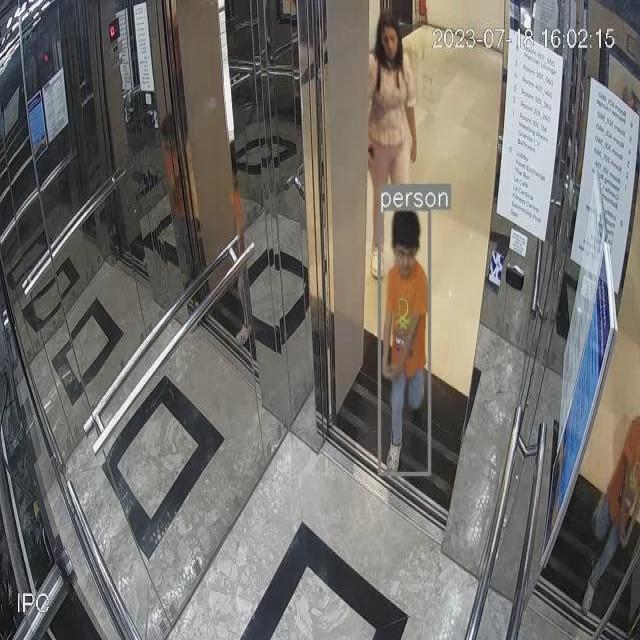person: (370, 2, 417, 278), (383, 204, 429, 473)
